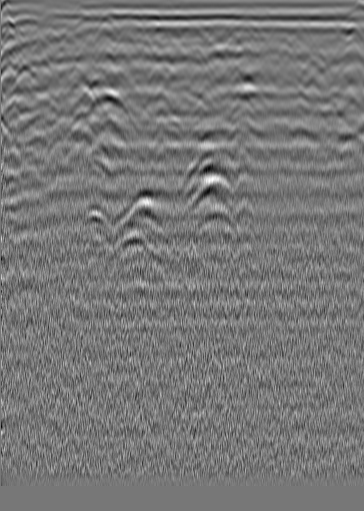가스: (81, 201, 117, 236)
상수: (315, 29, 335, 49)
오수: (14, 37, 34, 57)
우수: (178, 30, 198, 50)
